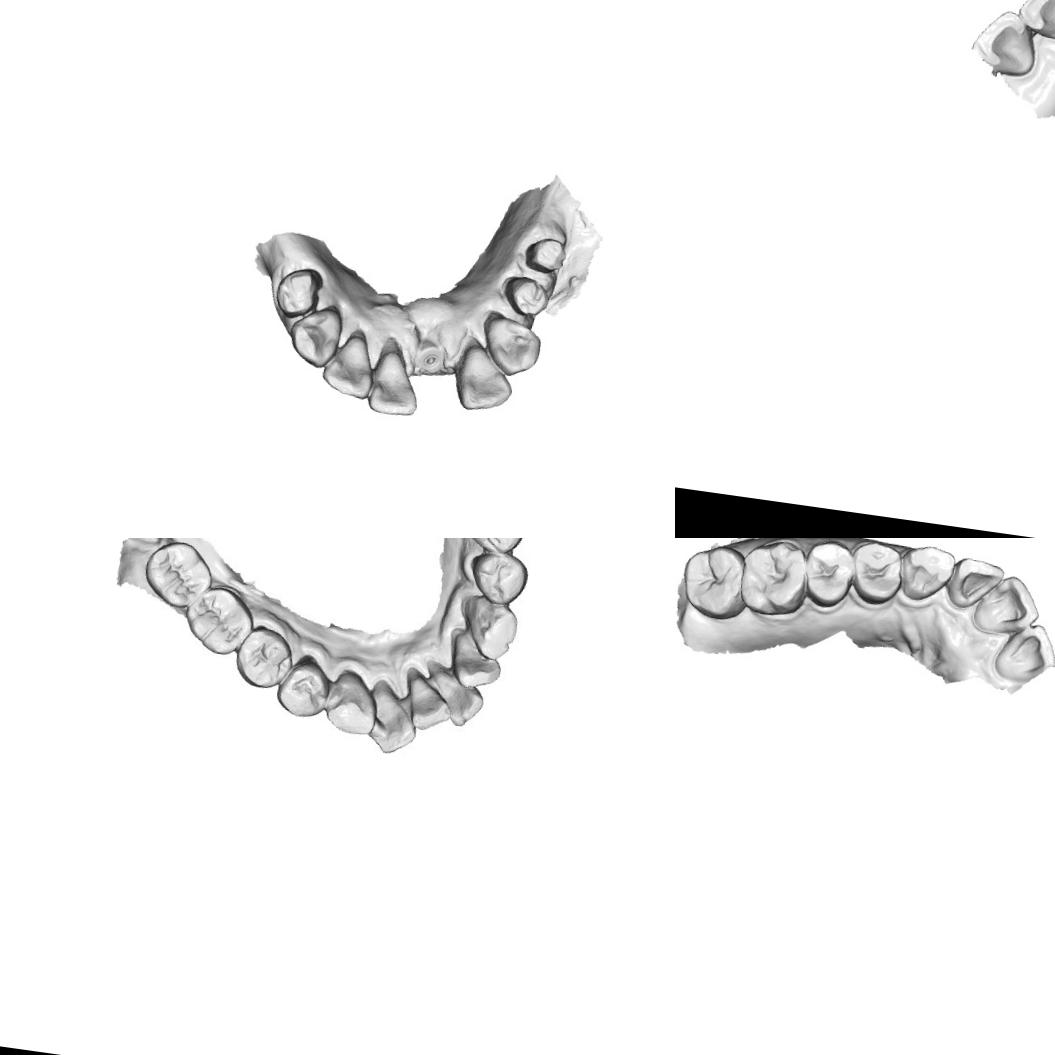canine: (454, 591, 524, 665), (320, 665, 383, 740), (482, 310, 549, 380), (895, 539, 959, 606), (286, 304, 345, 371)
crown: (270, 261, 326, 321), (520, 228, 570, 280), (502, 272, 554, 320)
implant: (413, 340, 448, 374)
incisor: (970, 5, 1042, 80), (970, 569, 1044, 641), (452, 340, 518, 418), (362, 678, 424, 759), (367, 336, 425, 420), (990, 617, 1055, 687), (423, 665, 489, 730), (944, 552, 1009, 616), (444, 629, 507, 693), (323, 334, 377, 402), (400, 674, 457, 735), (1012, 0, 1055, 43)
molar: (676, 538, 753, 624), (180, 580, 260, 661), (735, 538, 813, 620), (138, 538, 218, 613)
premolar: (230, 622, 300, 693), (798, 538, 858, 613), (463, 548, 532, 610), (846, 538, 906, 609), (272, 654, 334, 722), (461, 538, 531, 558)
